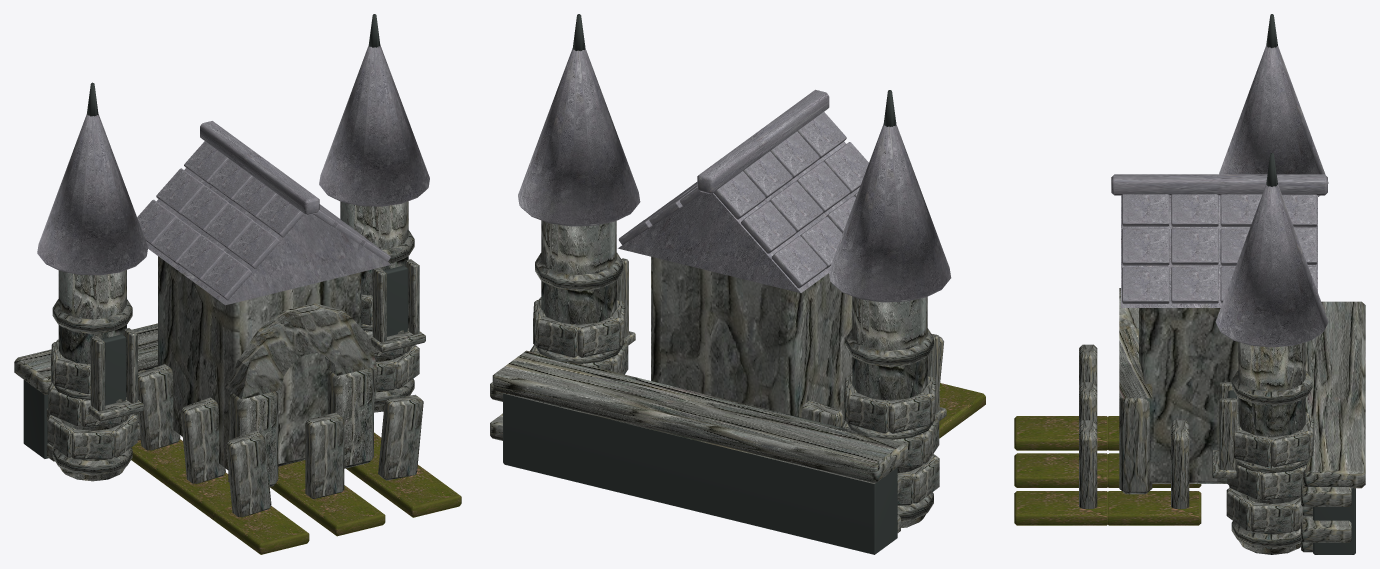
File: env-site-necropolis-mobile.glb
3 renders of one model, left to right at view 1: azimuth 30°, elevation 25°; view 2: azimuth 150°, elevation 25°; view 3: azimuth 270°, elevation 25°, orthographic. The views are drawn at different scales.
Parts seen in each view (by area): view 1: site necropolis · authored textured miniature; view 2: site necropolis · authored textured miniature; view 3: site necropolis · authored textured miniature.
Boxes of the visible parts, x1,y1,x2,y2 form: site necropolis · authored textured miniature: [14, 14, 461, 554]; site necropolis · authored textured miniature: [490, 14, 985, 554]; site necropolis · authored textured miniature: [1014, 14, 1365, 554].
Size of the model in its own units: 1.34 by 1.32 by 1.07.
Materials: 4 (3 with a texture image).
